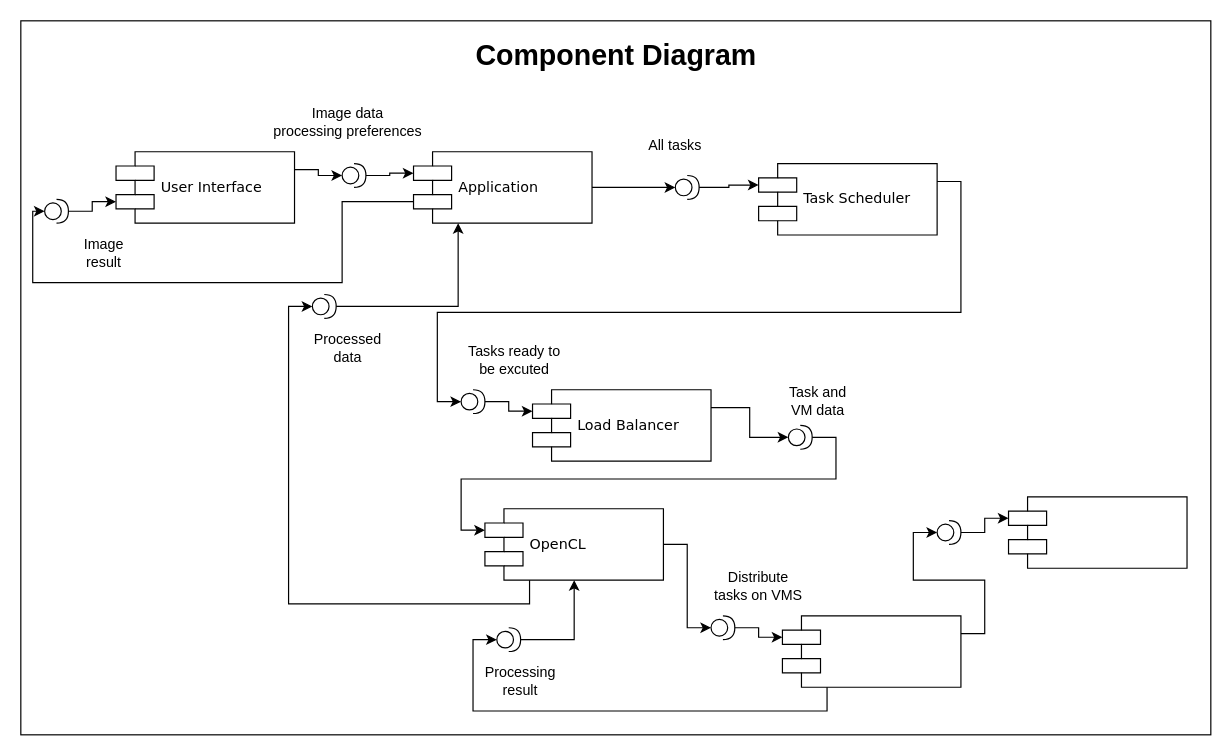
Image size: 1232x756. Some labels were removed from this diagram. Each missing label, with the box of its shape:
Object Storage: (1007, 496, 1187, 568)
Virtual Machines: (781, 615, 961, 687)
